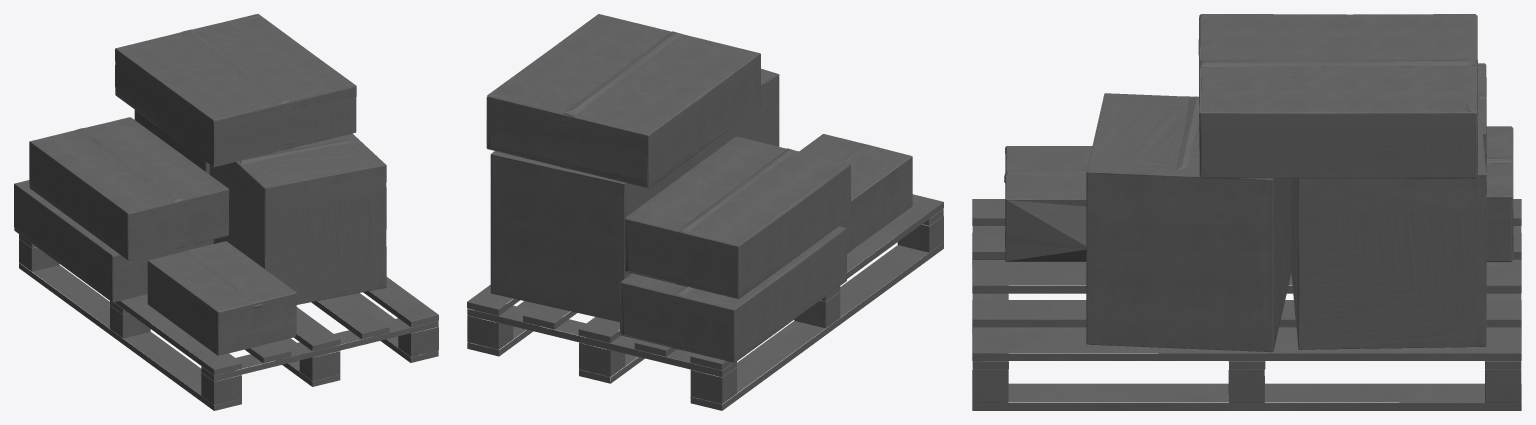
The model's file is pallet_composition_a59.glb.
3 views of the same model, side by side, from view 1: azimuth 30°, elevation 25°; view 2: azimuth 150°, elevation 25°; view 3: azimuth 270°, elevation 25° (orthographic). The views are drawn at different scales.
Parts seen in each view (by area): view 1: geometry_0; view 2: geometry_0; view 3: geometry_0.
Part boxes in pixels (left/top/right/bottom): geometry_0: left=14, top=14, right=438, bottom=410; geometry_0: left=467, top=14, right=943, bottom=410; geometry_0: left=972, top=14, right=1521, bottom=410.
Bounding box in the file's own units: 0.2897 × 0.253 × 0.42.
1 material, 1 textured.
